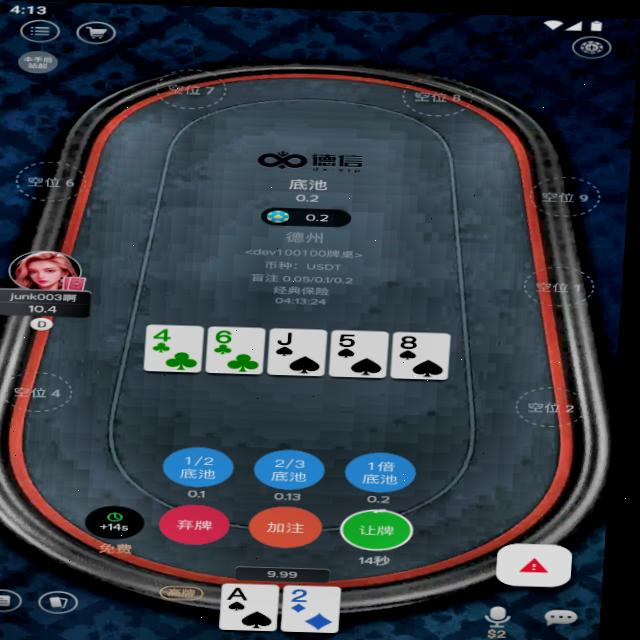2f: (296, 585, 320, 602)
4m: (154, 325, 181, 342)
6m: (217, 326, 242, 343)
6s: (340, 329, 364, 346)
8s: (402, 331, 426, 348)
As: (233, 584, 260, 600)
Js: (279, 328, 301, 344)
